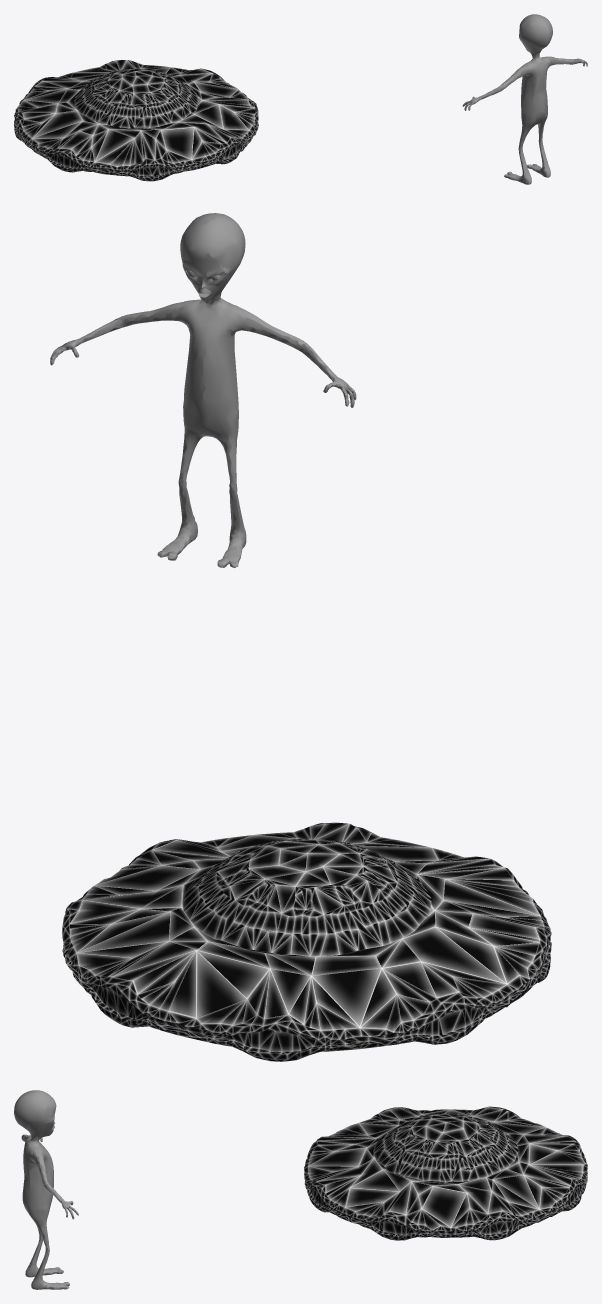
Rendered from frame_046.obj.
3 views of the same model, one above another, from view 1: azimuth 30°, elevation 25°; view 2: azimuth 150°, elevation 25°; view 3: azimuth 270°, elevation 25° (orthographic). The views are drawn at different scales.
Parts seen in each view (by area): view 1: 13884_UFO_Saucer_v1_l2, 10469_GrayAlien_v01; view 2: 13884_UFO_Saucer_v1_l2, 10469_GrayAlien_v01; view 3: 13884_UFO_Saucer_v1_l2, 10469_GrayAlien_v01.
Part boxes in pixels (left/top/right/bottom): 13884_UFO_Saucer_v1_l2: left=14, top=60, right=258, bottom=181; 10469_GrayAlien_v01: left=462, top=14, right=587, bottom=184; 13884_UFO_Saucer_v1_l2: left=62, top=822, right=551, bottom=1061; 10469_GrayAlien_v01: left=50, top=213, right=356, bottom=567; 13884_UFO_Saucer_v1_l2: left=304, top=1106, right=587, bottom=1240; 10469_GrayAlien_v01: left=14, top=1090, right=78, bottom=1289.
Bounding box in the file's own units: 23.69 × 12.64 × 25.65.
